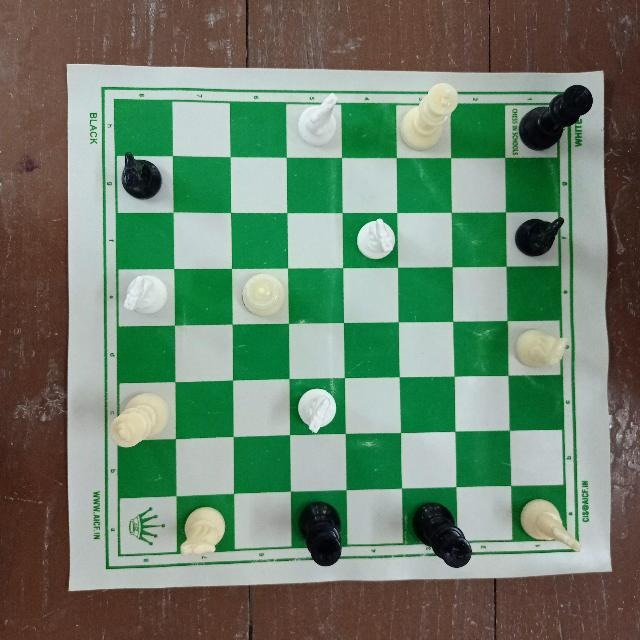black-king: (514, 83, 593, 154), (410, 500, 473, 571), (294, 500, 345, 570)
black-knight: (117, 147, 166, 204), (514, 212, 566, 262)
white-king: (396, 81, 457, 153), (108, 390, 172, 447)
white-knight: (513, 494, 582, 554), (510, 323, 570, 371), (296, 90, 342, 150), (177, 507, 231, 558), (351, 216, 397, 265), (293, 386, 341, 432), (122, 275, 168, 317)
white-queen: (240, 275, 288, 321)
